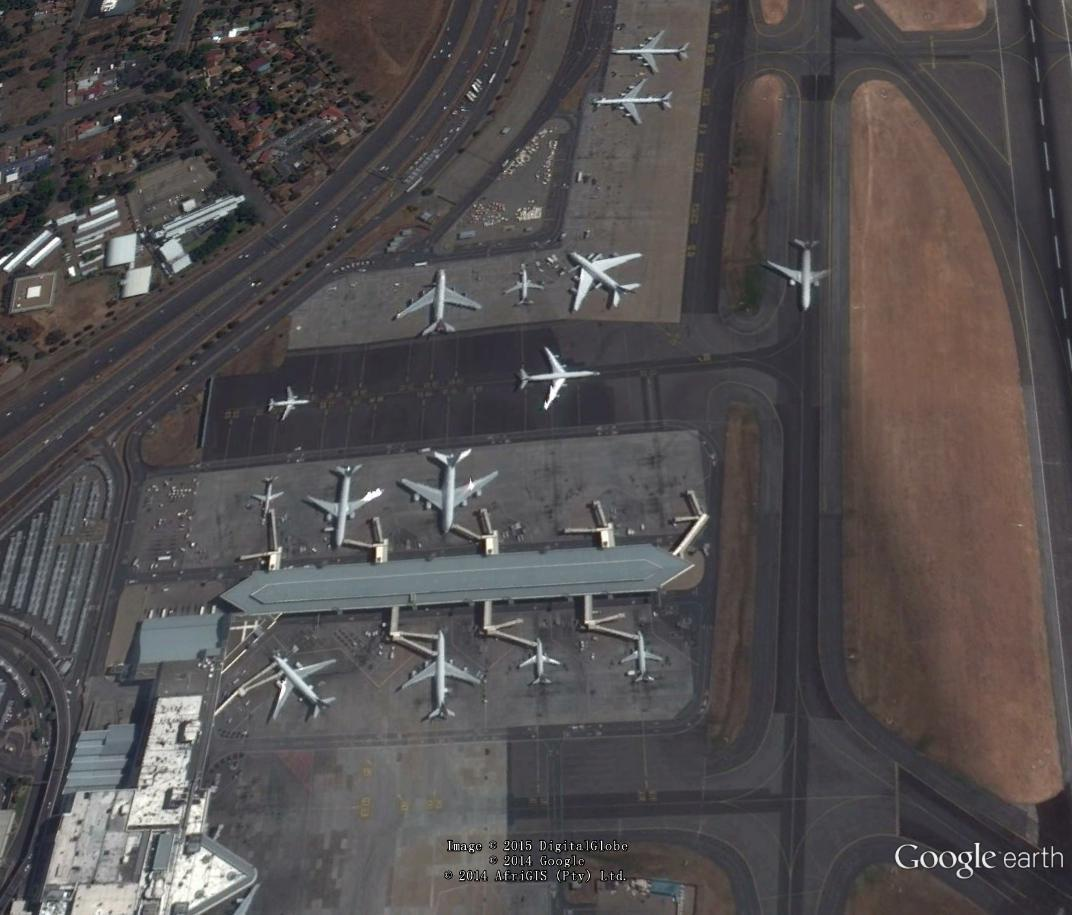aircraft: (394, 442, 503, 541), (394, 625, 488, 726), (304, 459, 388, 553), (391, 264, 488, 342), (511, 339, 607, 417), (759, 234, 844, 318), (564, 247, 649, 319), (265, 651, 344, 726), (604, 25, 697, 79), (588, 78, 678, 130), (615, 624, 669, 691), (514, 634, 570, 693), (500, 264, 552, 310), (262, 381, 314, 427), (244, 472, 289, 523)
